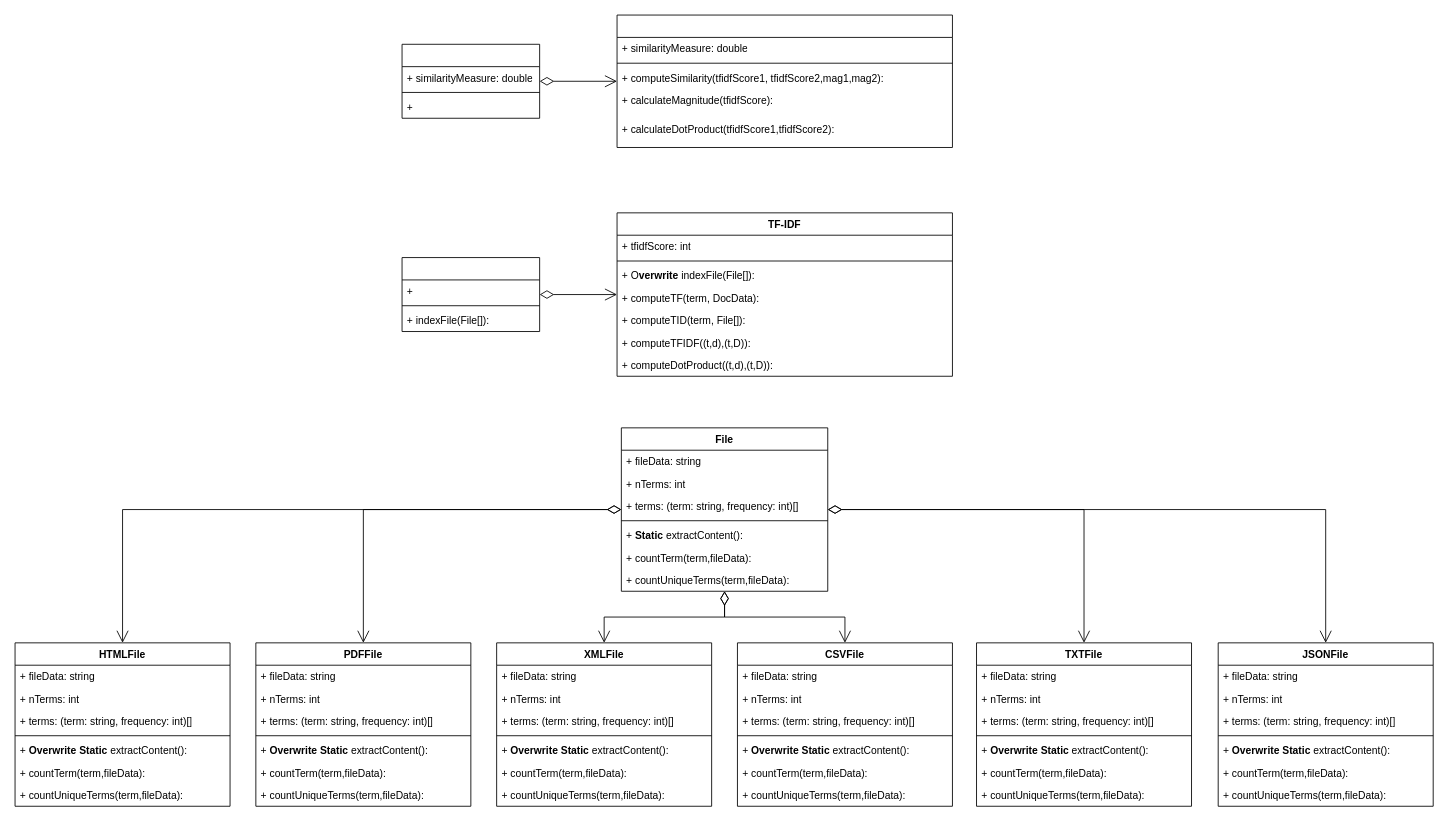
The diagram is 1448 pixels wide and 824 high, and some of its shapes have lost their labels. The shapes that lost their labels are listed below. From the top down, each one's box as (x1, y1, x2, y2) in pixels, then its label:
(401, 43, 540, 118): SearchEngine
(616, 14, 952, 147): CosineSimilarity
(401, 257, 540, 332): Indexer
